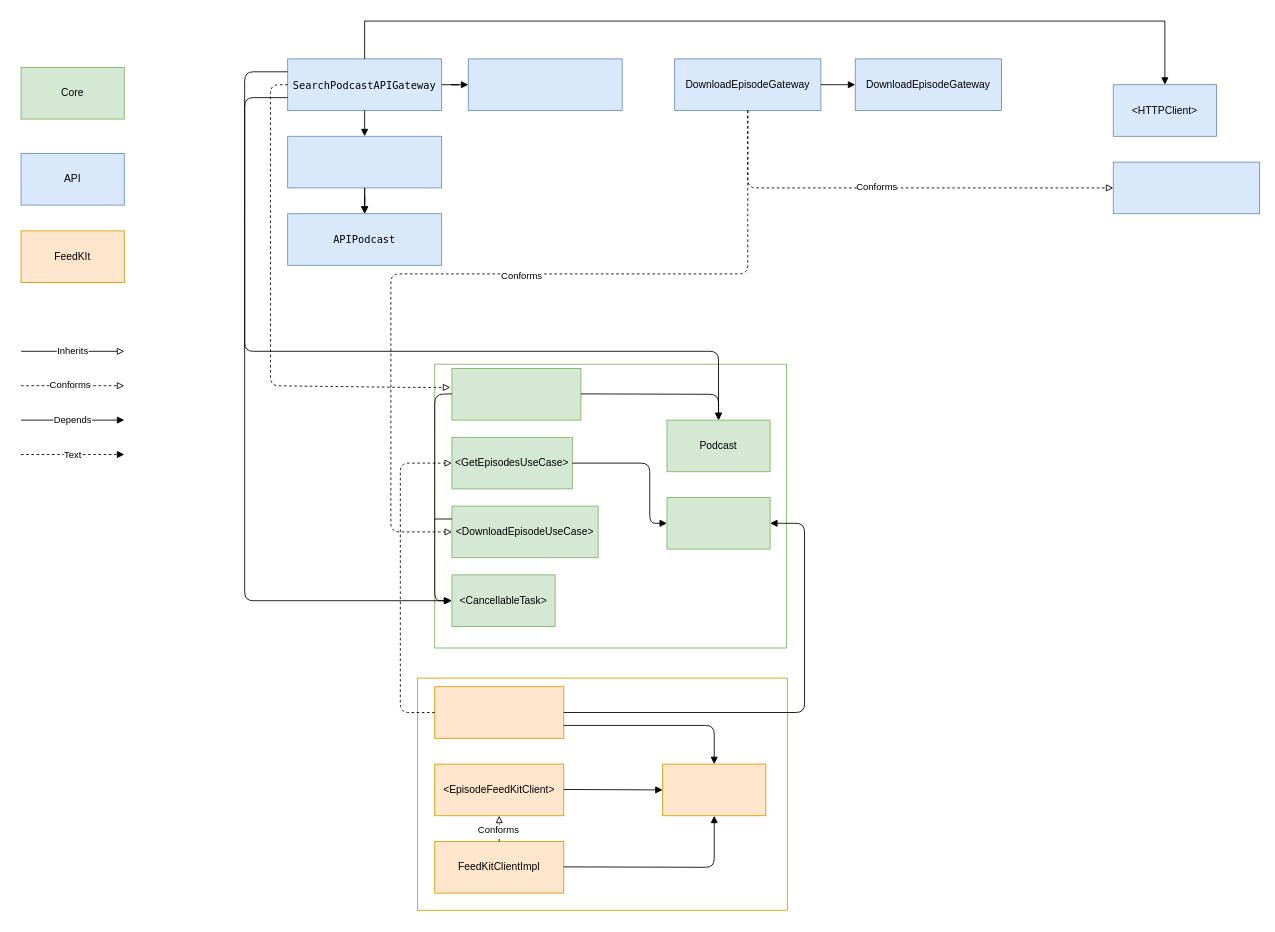
Image size: 1275x932. Some labels were removed from this diagram. The shapes that lost their labels are listed below. From the top down, each one's centre as x and y in pixels, then its label:
At point 544,84: "SearchPodcastURLRequest".
At point 364,161: "SearchPodcastAPIMapper".
At point 1185,187: "<HTTPDownloadClient>".
At point 516,394: "<SearchPodcastUseCase>".
At point 718,523: "Episode".
At point 499,712: "EpisodesFKGateway".
At point 714,789: "FKEpisode".
